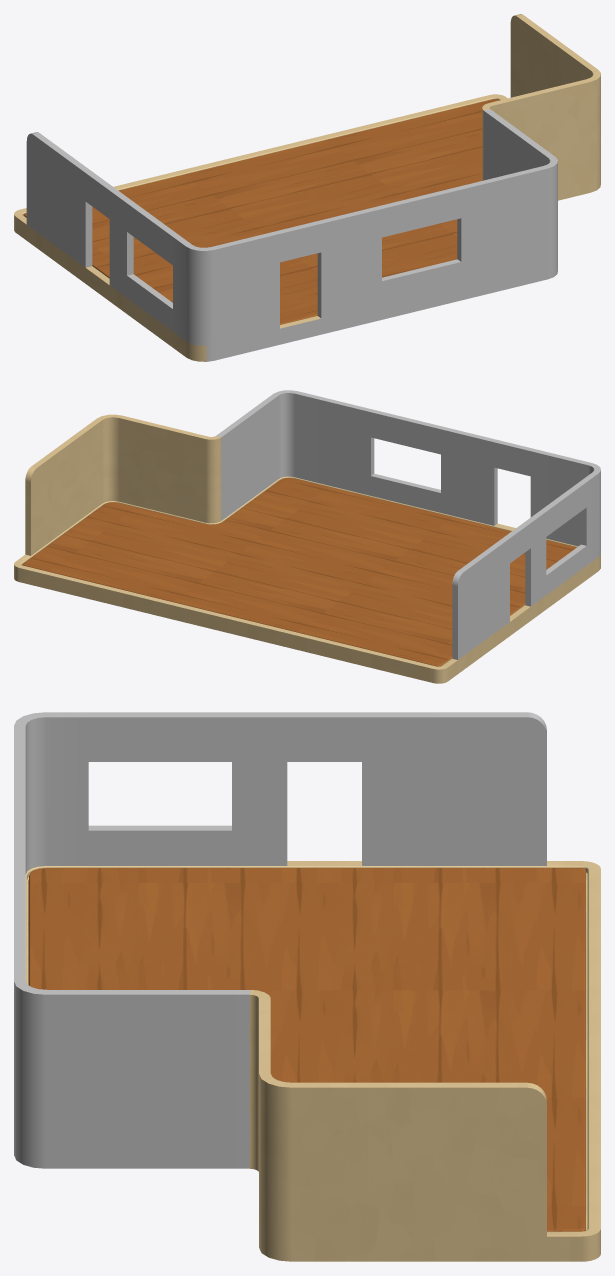
Rendered from room_set.fbx.
3 renders of one model, top to bottom at view 1: azimuth 30°, elevation 25°; view 2: azimuth 150°, elevation 25°; view 3: azimuth 270°, elevation 25°, orthographic. The views are drawn at different scales.
Parts seen in each view (by area): view 1: room; view 2: room; view 3: room.
Boxes of the visible parts, x1=… form: room: x1=14, y1=14, x2=600, y2=361; room: x1=14, y1=390, x2=600, y2=683; room: x1=14, y1=712, x2=600, y2=1261.
Bounding box in the file's own units: 1705 × 369 × 1127.
